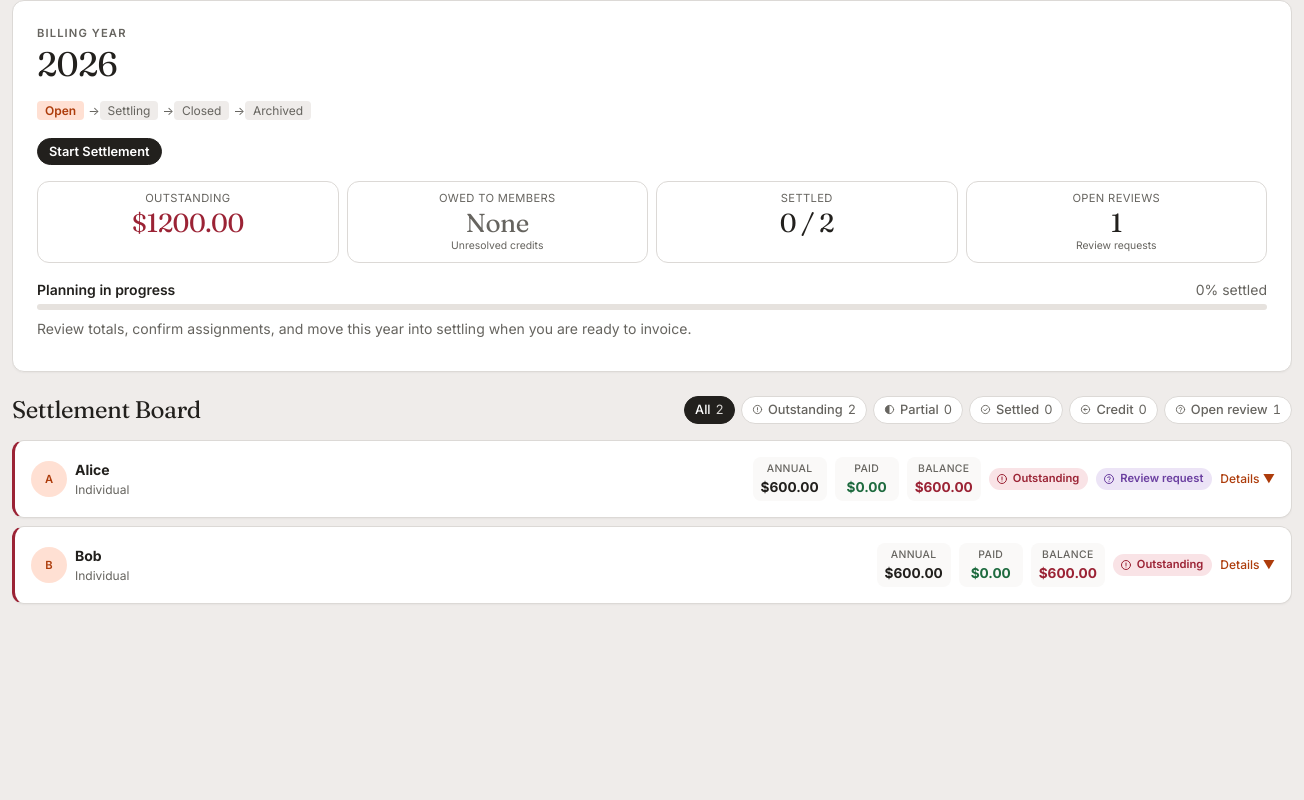
Test: DashboardView › passes its Review Requests into the board: Open review chip and card badge (RD-03)
Expected: the text "Review request" is shown, [1096,468,1212,490]
Click the button "Open review 1". click: (1228, 410)
box: [1164,396,1292,424]
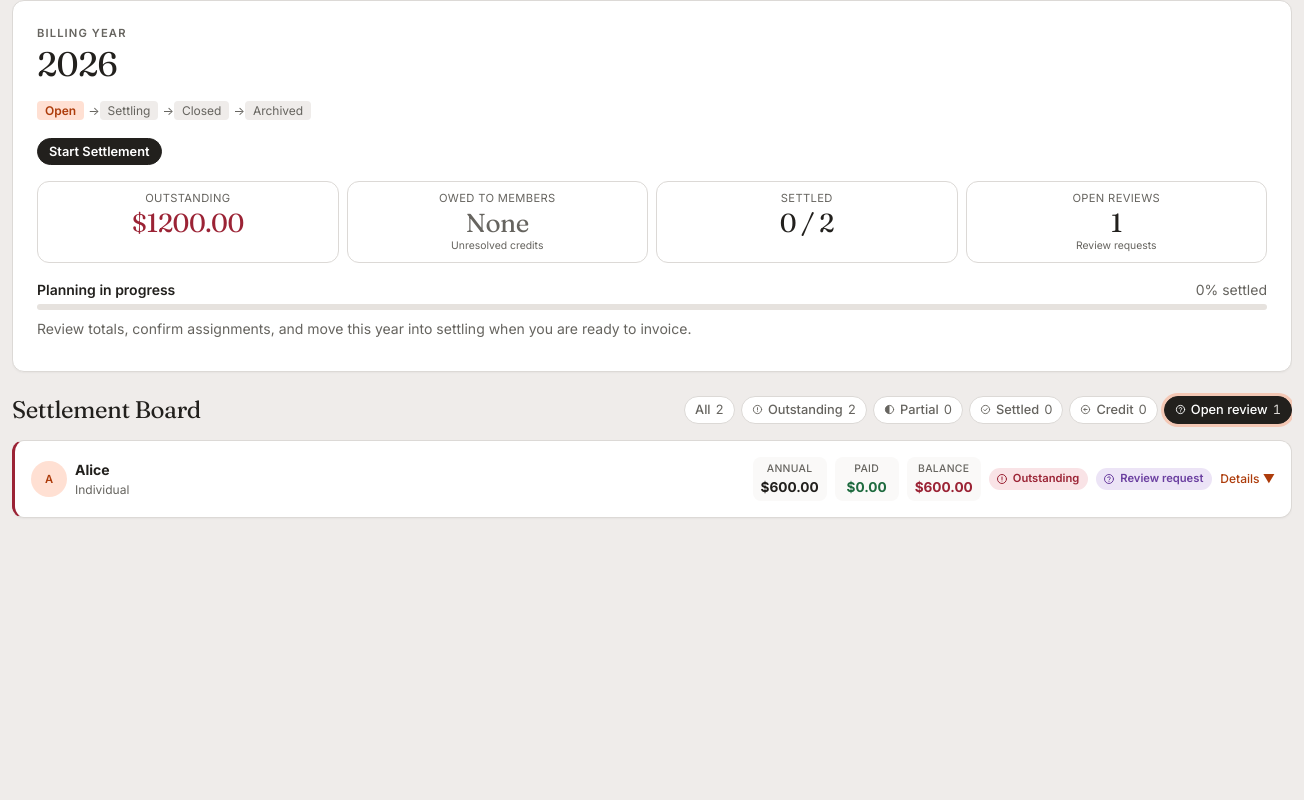
Expected: the text "Alice" is shown, [75,459,110,480]
Expected: the text "Bob" is gone
